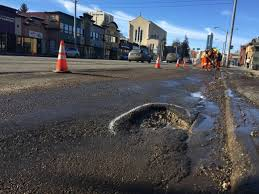pothole: (118, 98, 259, 142), (156, 145, 250, 193), (194, 73, 259, 93)
